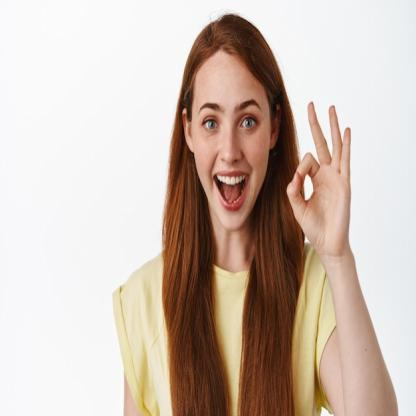ok: (284, 97, 353, 259)
